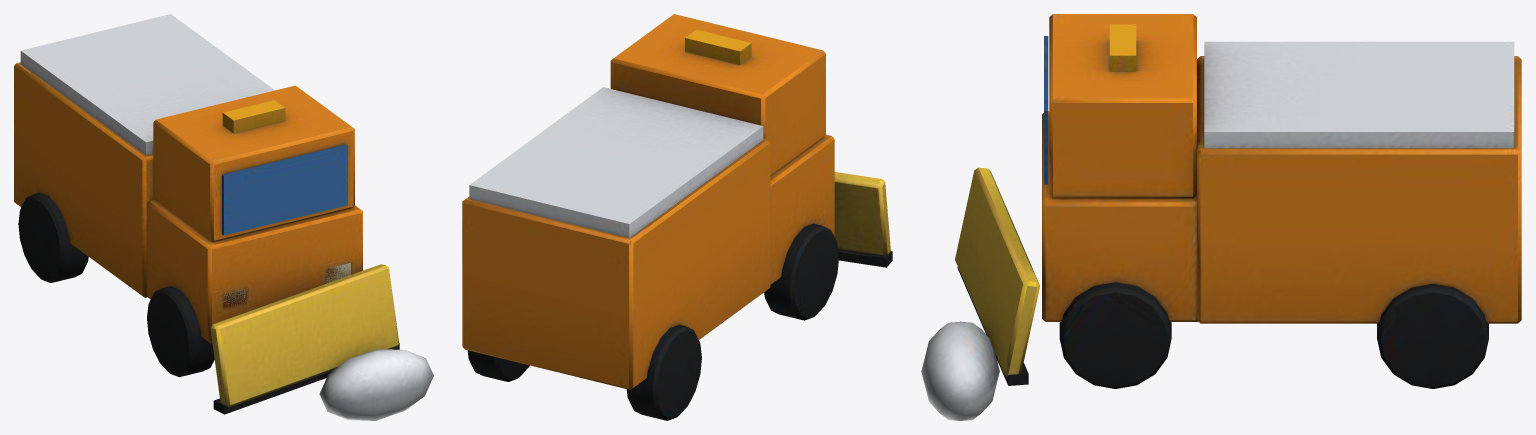
File: quitanieves.glb
3 renders of one model, left to right at view 1: azimuth 30°, elevation 25°; view 2: azimuth 150°, elevation 25°; view 3: azimuth 270°, elevation 25°, orthographic. The views are drawn at different scales.
Parts seen in each view (by area): view 1: quitanieves; view 2: quitanieves; view 3: quitanieves.
Part boxes in pixels (x1=…): quitanieves: x1=14, y1=14, x2=433, y2=420; quitanieves: x1=462, y1=14, x2=892, y2=420; quitanieves: x1=921, y1=14, x2=1521, y2=420.
Bounding box in the file's own units: 2.01 × 2.52 × 4.07.
Materials: 1 (1 with a texture image).
